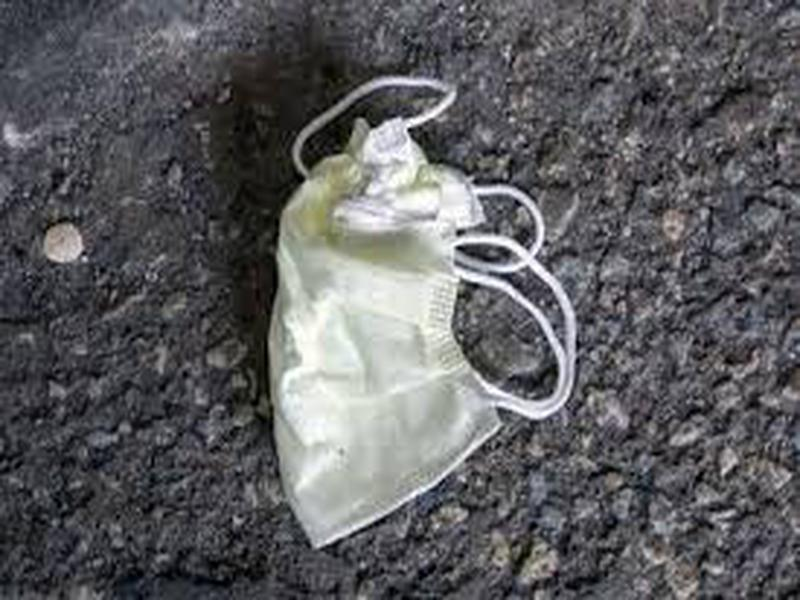mask: (244, 72, 591, 552)
